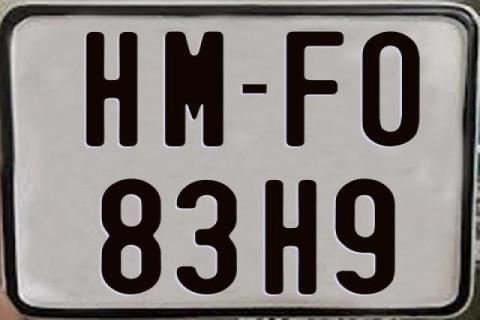0: (101, 178, 163, 298), (334, 178, 395, 298), (174, 178, 235, 296), (359, 29, 417, 149)
F: (285, 30, 346, 146)
H: (265, 179, 321, 296), (85, 29, 141, 145)
M: (165, 32, 228, 152)
